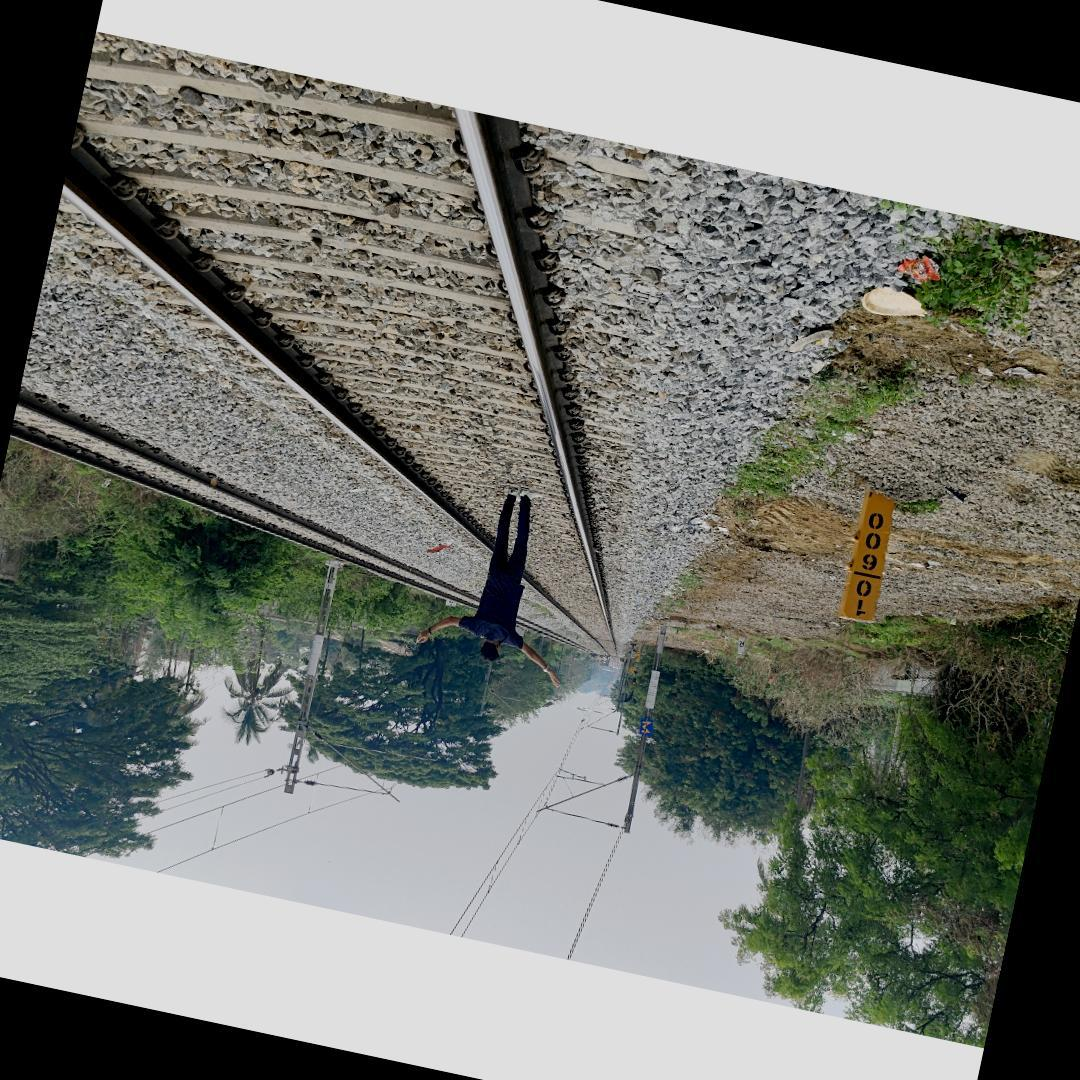standing: (411, 473, 600, 691)
track: (50, 32, 629, 656)
